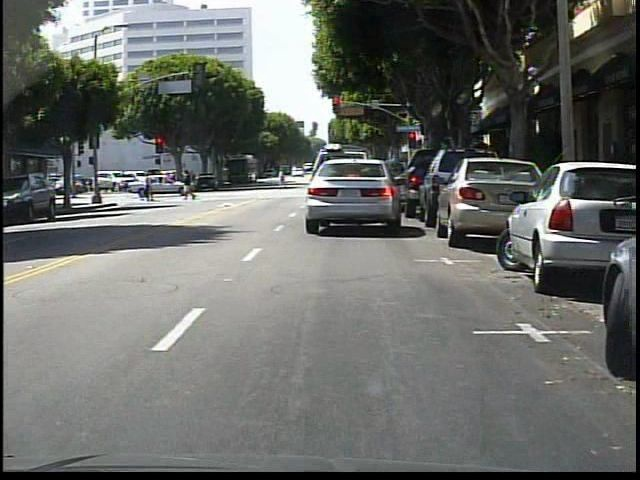person: (141, 174, 157, 203), (182, 170, 196, 201), (278, 167, 287, 190)
